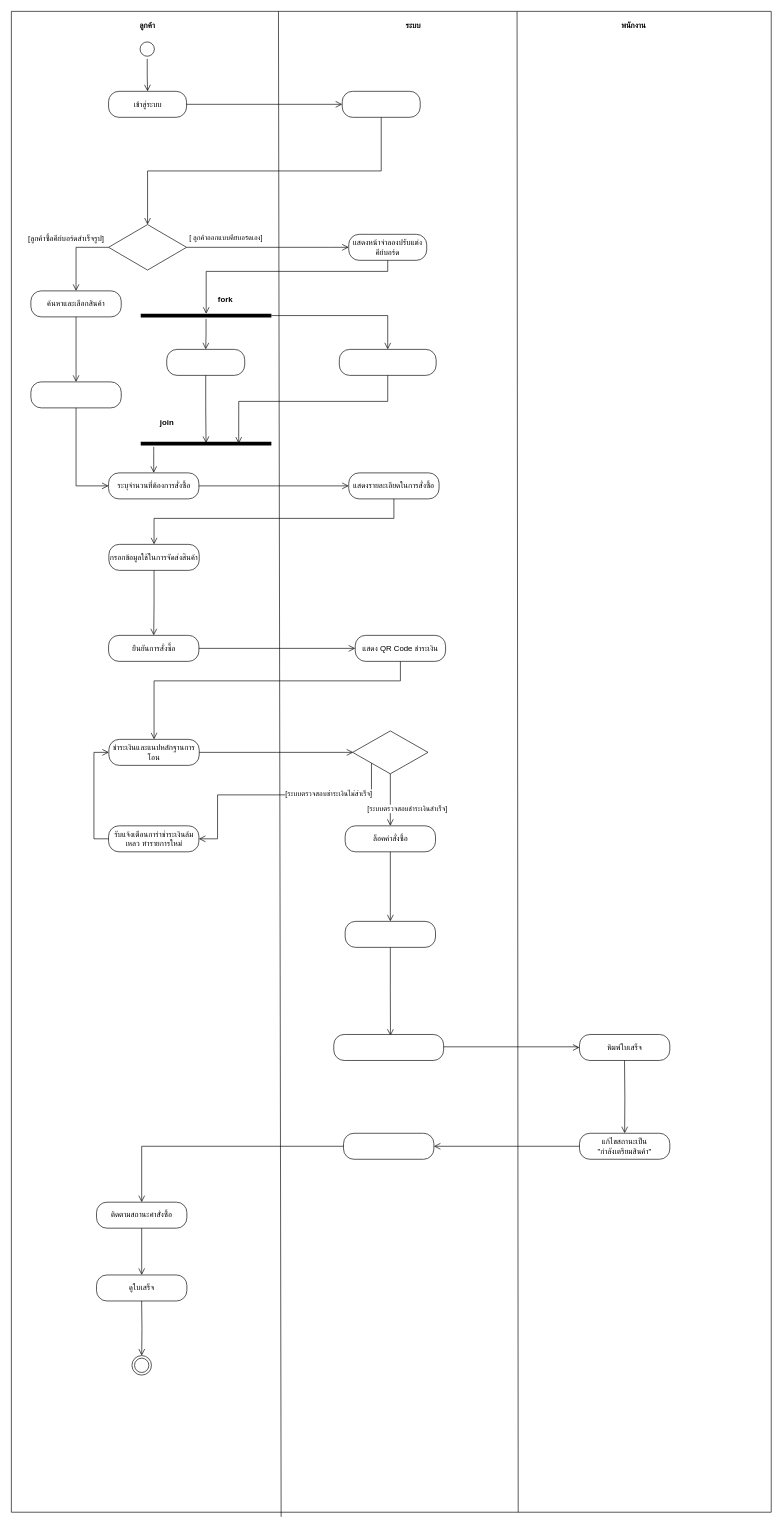
Image size: 783x1529. Some labels were removed from this diagram. Here are the shapes that lost their labels. From the top down, the centre of each, then its label:
At point 381,104: "แสดงรายการสินค้า".
At point 205,362: "เลือกชิ้นส่วนประกอบคีย์บอร์ด".
At point 387,362: "แสดงภาพจำลองคีย์บอร์ดตามชิ้นส่วนที่ลูกค้าเลือก".
At point 75,394: "ดูรายละเอียดสินค้า".
At point 390,934: "ตักสต๊อคสินค้าในคลัง".
At point 388,1047: "แจ้งเตือนและแสดงรายการสั่งซ์้อ".
At point 388,1146: "อัพเดทสถานะคำสั่งซื้อ".
